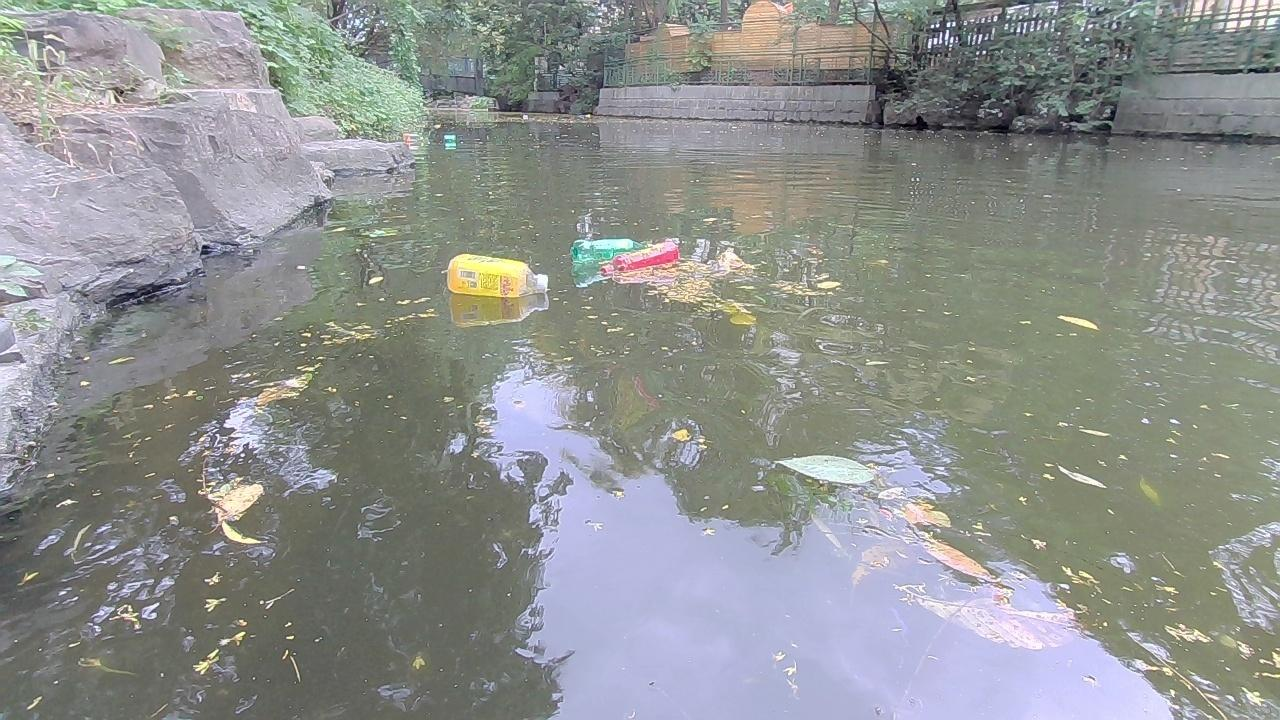bottle: (444, 251, 553, 302), (599, 243, 682, 278), (566, 236, 660, 257), (400, 131, 420, 144), (582, 111, 593, 121), (519, 112, 530, 120), (444, 133, 454, 141)
